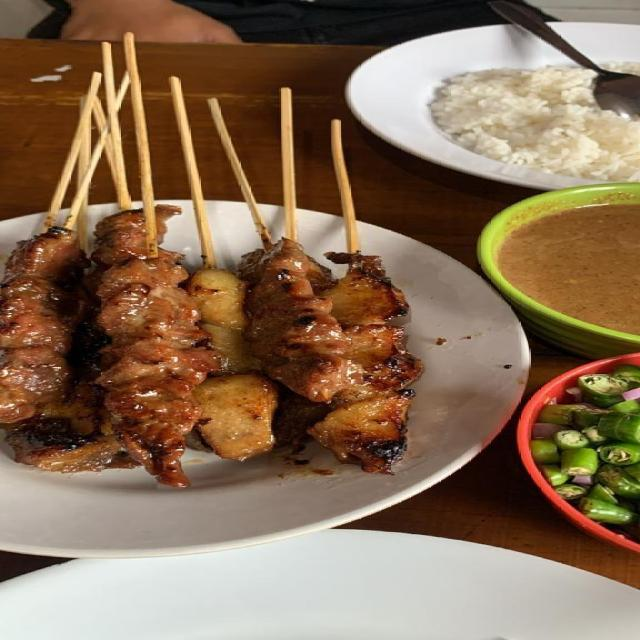Sate: (9, 66, 392, 462)
